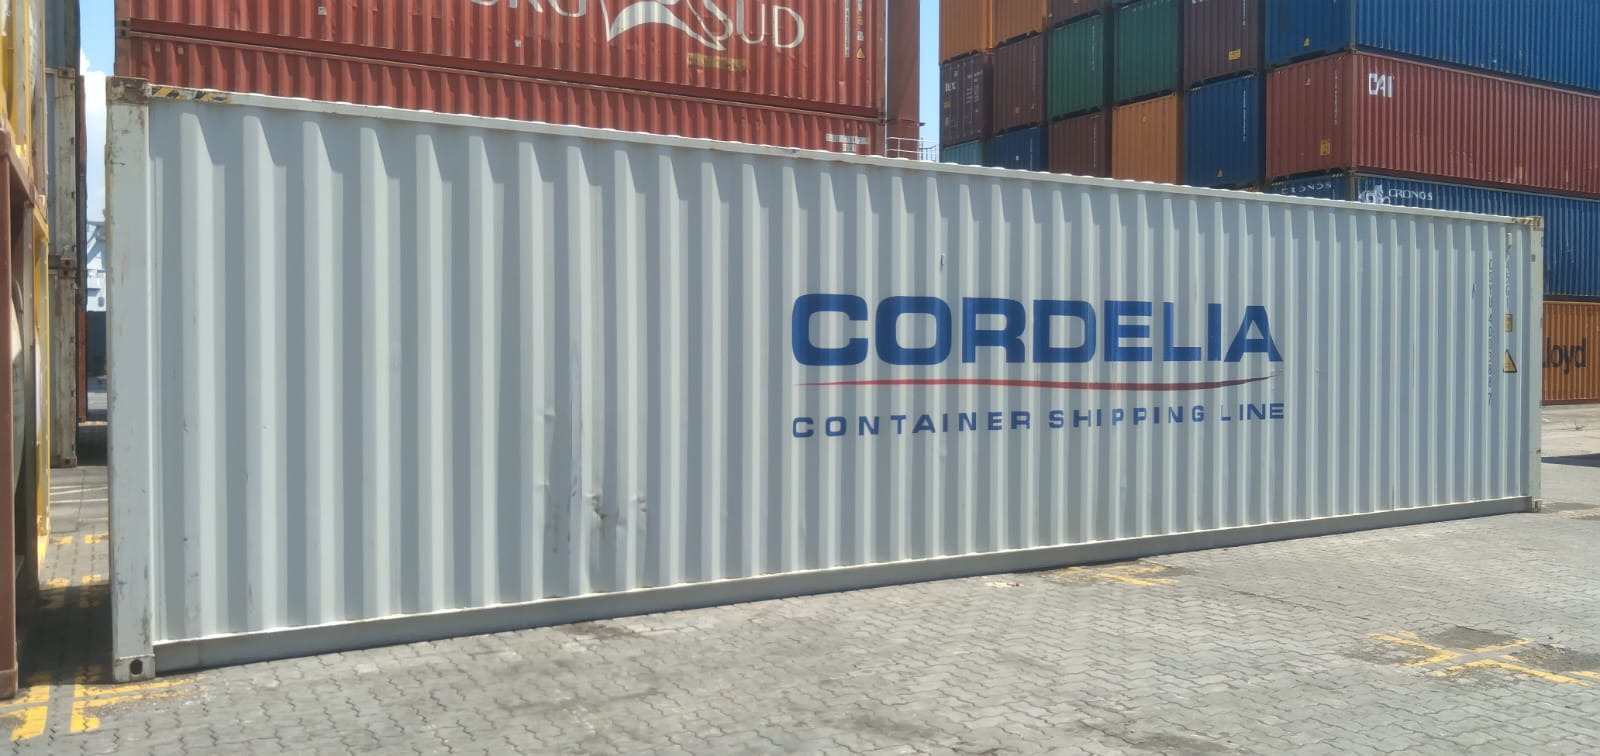dented: (535, 464, 676, 548)
